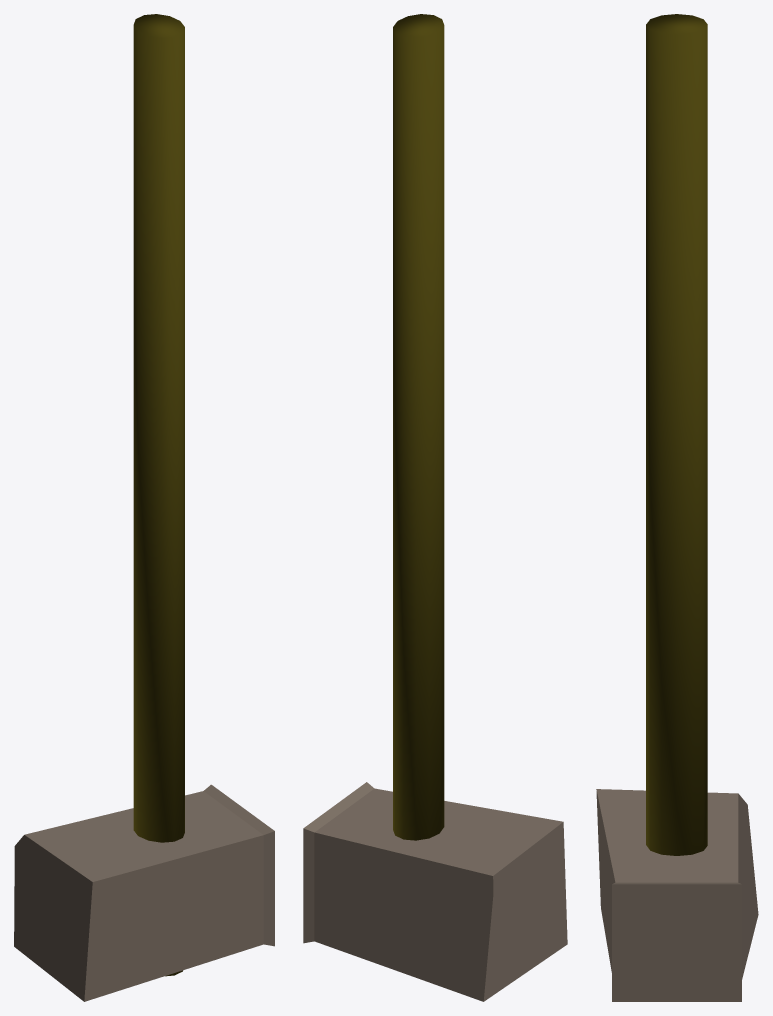
The model's file is maillet.glb.
The picture shows the model from 3 angles, left to right: view 1: azimuth 30°, elevation 25°; view 2: azimuth 150°, elevation 25°; view 3: azimuth 270°, elevation 25°; orthographic projection. The views are drawn at different scales.
Visible parts, largest first — view 1: Cylinder; view 2: Cylinder; view 3: Cylinder.
Boxes of the visible parts, x1,y1,x2,y2 form: Cylinder: (14, 14, 274, 1001); Cylinder: (303, 14, 567, 1001); Cylinder: (596, 14, 758, 1001).
Size of the model in its own units: 0.8365 by 3.83 by 0.5871.
